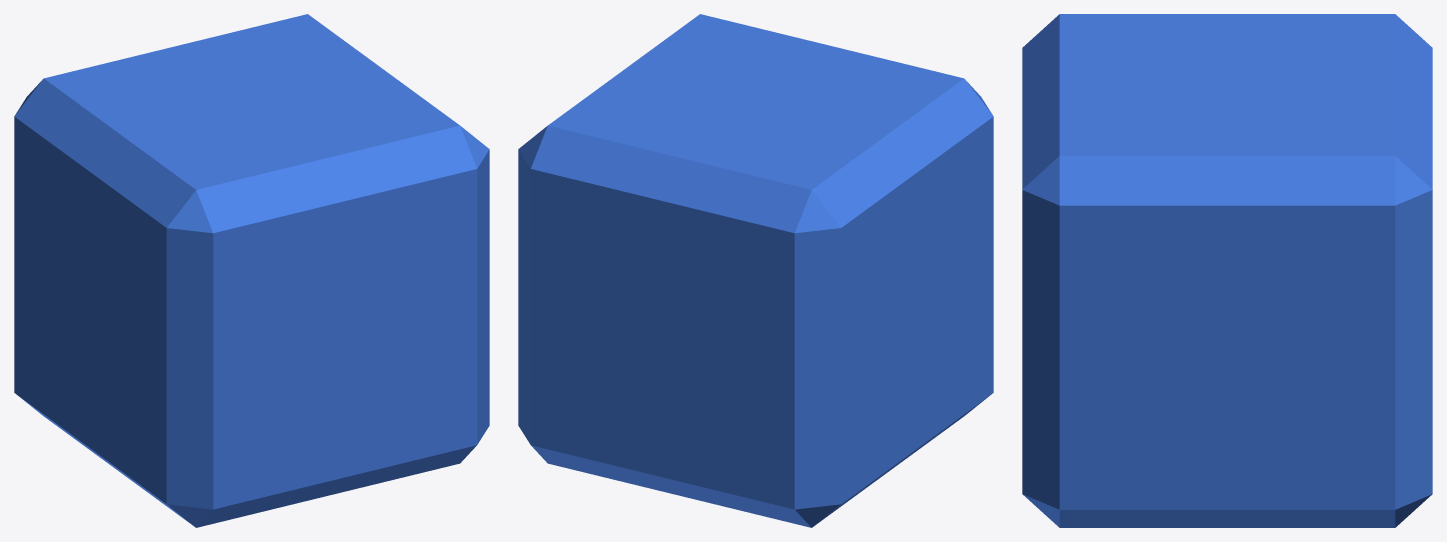
Rendered from FinishZone.fbx.
3 renders of one model, left to right at view 1: azimuth 30°, elevation 25°; view 2: azimuth 150°, elevation 25°; view 3: azimuth 270°, elevation 25°, orthographic. The views are drawn at different scales.
Visible parts, largest first — view 1: Cube.001; view 2: Cube.001; view 3: Cube.001.
Part boxes in pixels (x1,y1,x2,y2): Cube.001: (14, 14, 489, 527); Cube.001: (518, 14, 993, 527); Cube.001: (1022, 14, 1432, 527).
Size of the model in its own units: 200 by 200 by 200.
